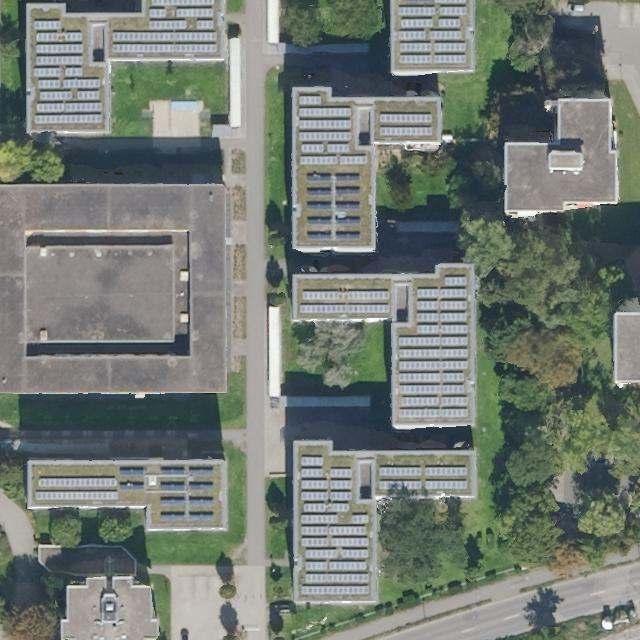PV: (397, 274, 471, 421), (298, 453, 372, 600), (32, 20, 104, 125), (390, 0, 474, 73), (111, 0, 218, 56), (297, 94, 370, 166), (304, 172, 359, 246), (160, 465, 218, 526), (378, 464, 471, 495), (298, 288, 390, 316), (32, 476, 118, 503), (376, 112, 432, 138), (120, 466, 143, 489)
